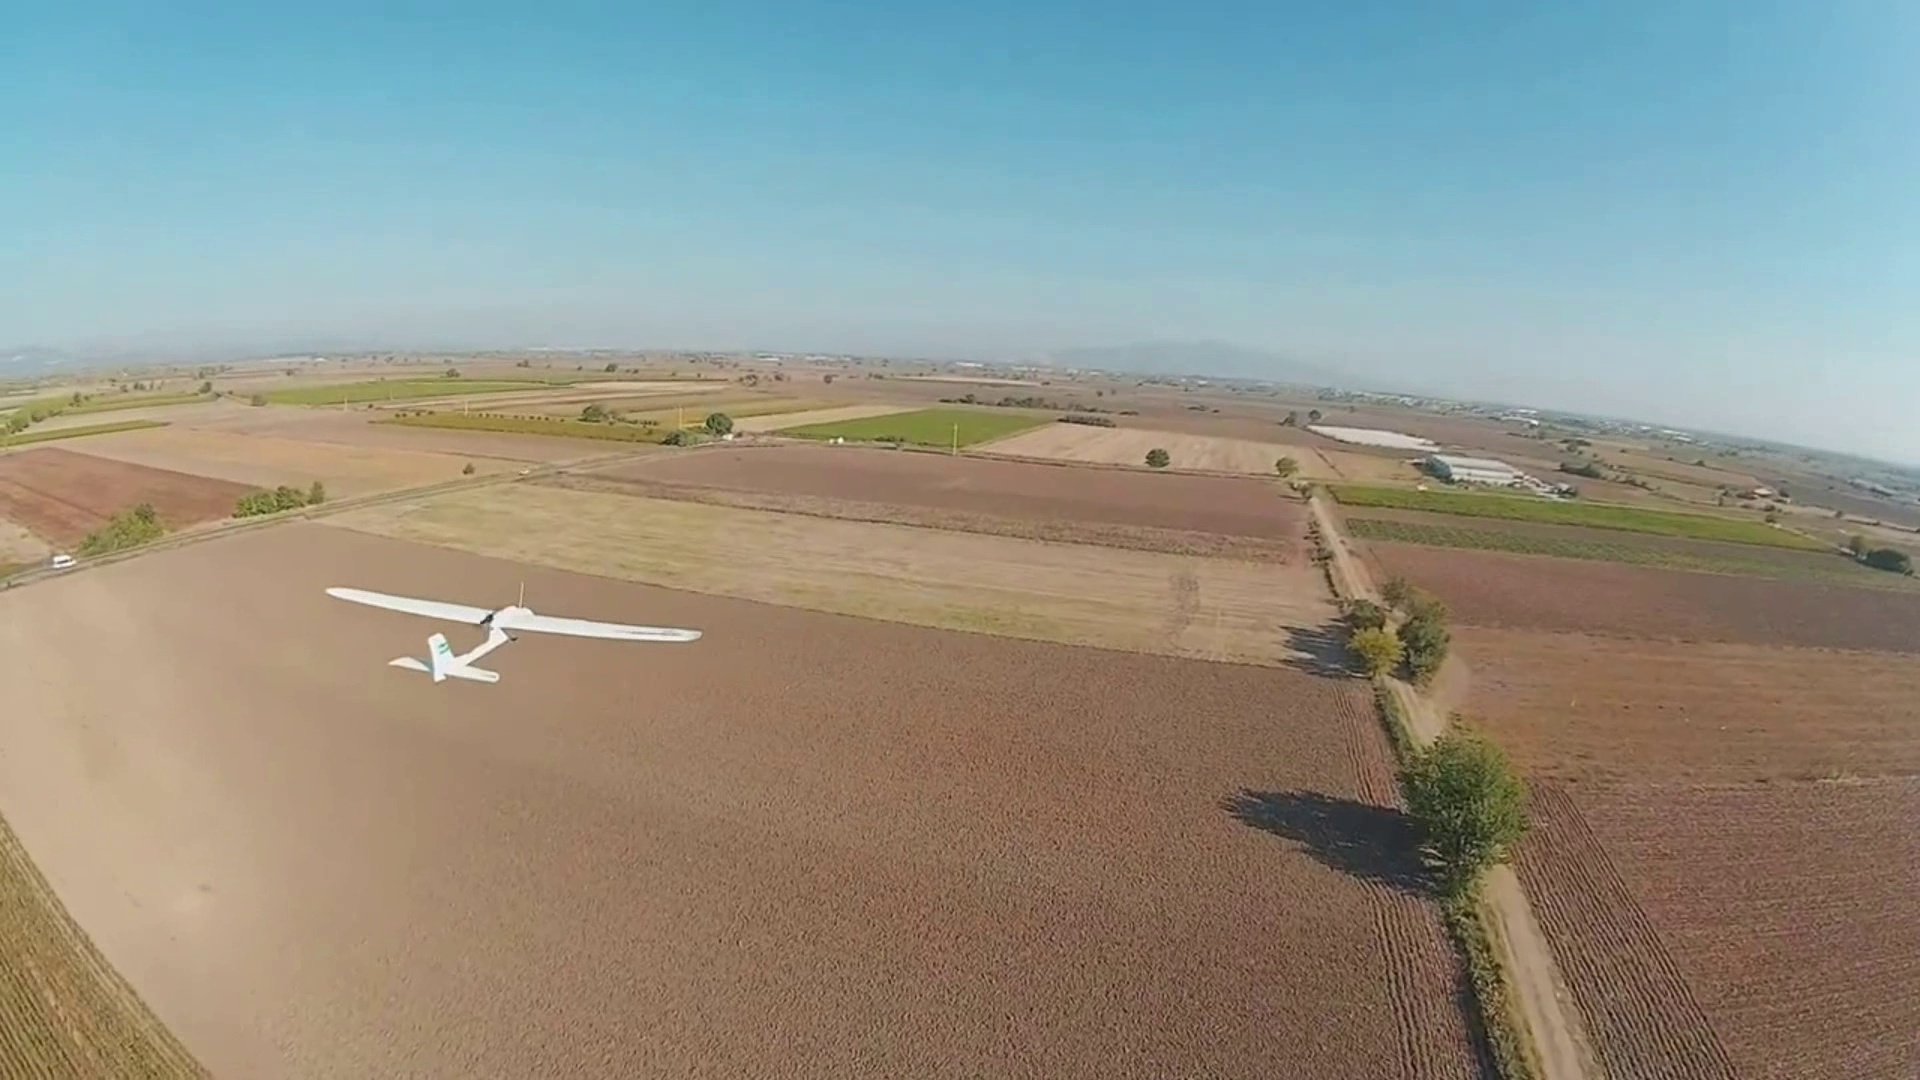airplane: (320, 585, 704, 688)
